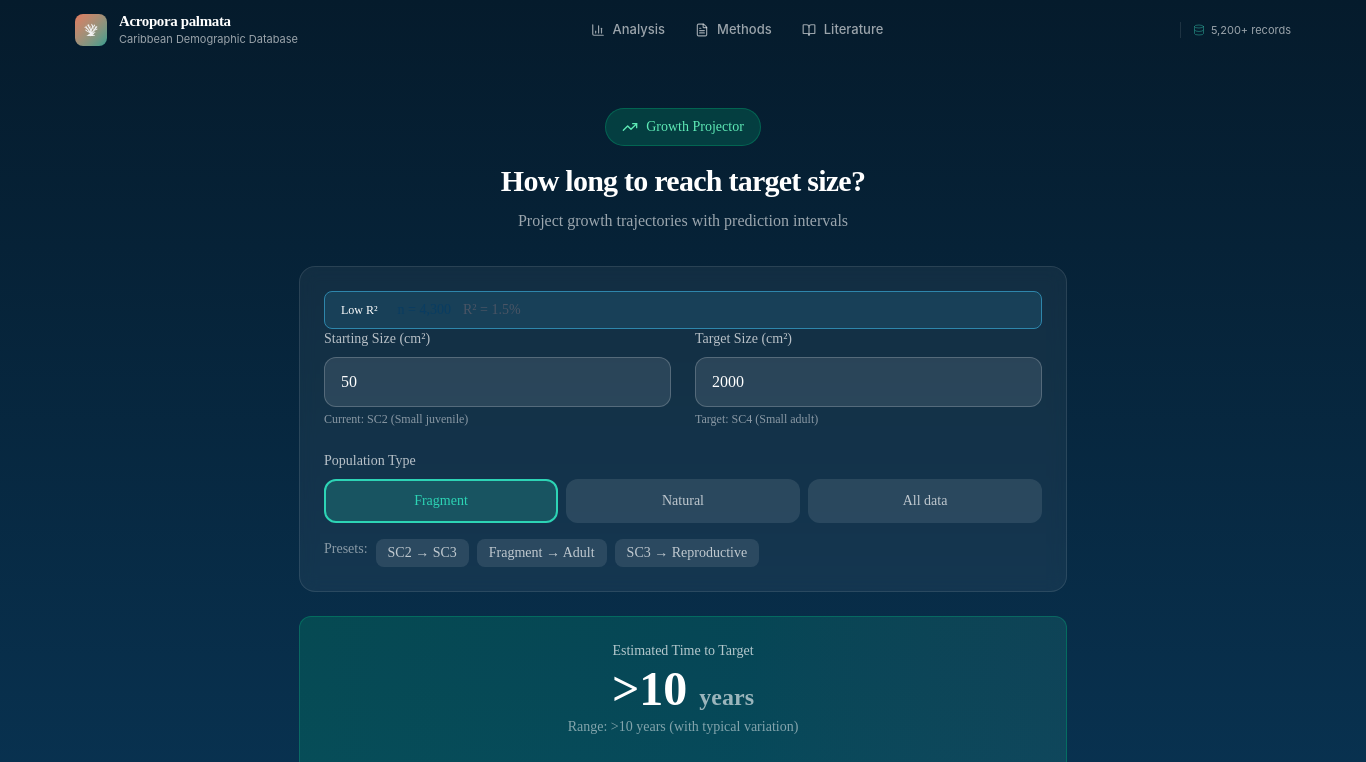
GrowthTool › presets › applies SC2 → SC3 preset
Click the button "SC2 → SC3".
click(422, 552)  # box [376,538,469,566]
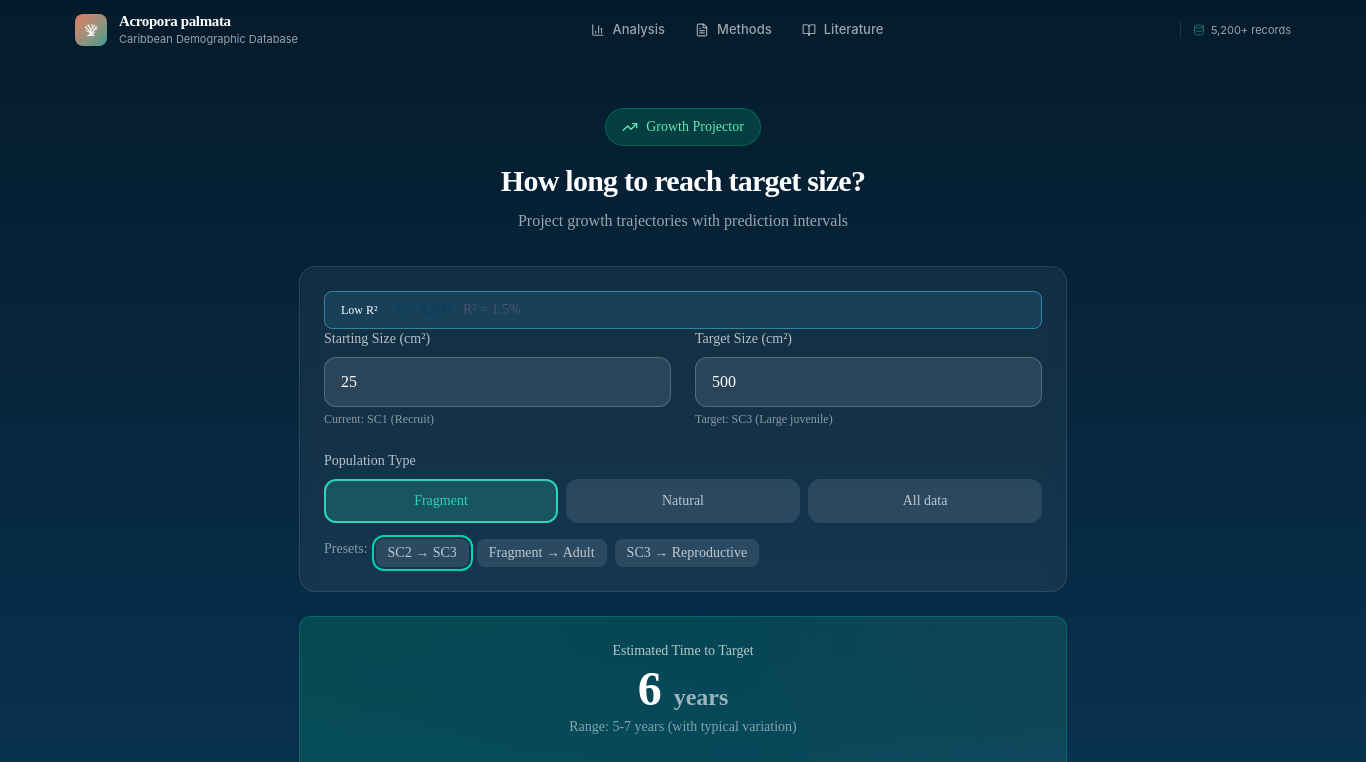
Check: the number field labelled "Starting Size (cm²)" holds "25", box [324,356,671,406]
Check: the number field labelled "Target Size (cm²)" holds "500", box [695,356,1042,406]
